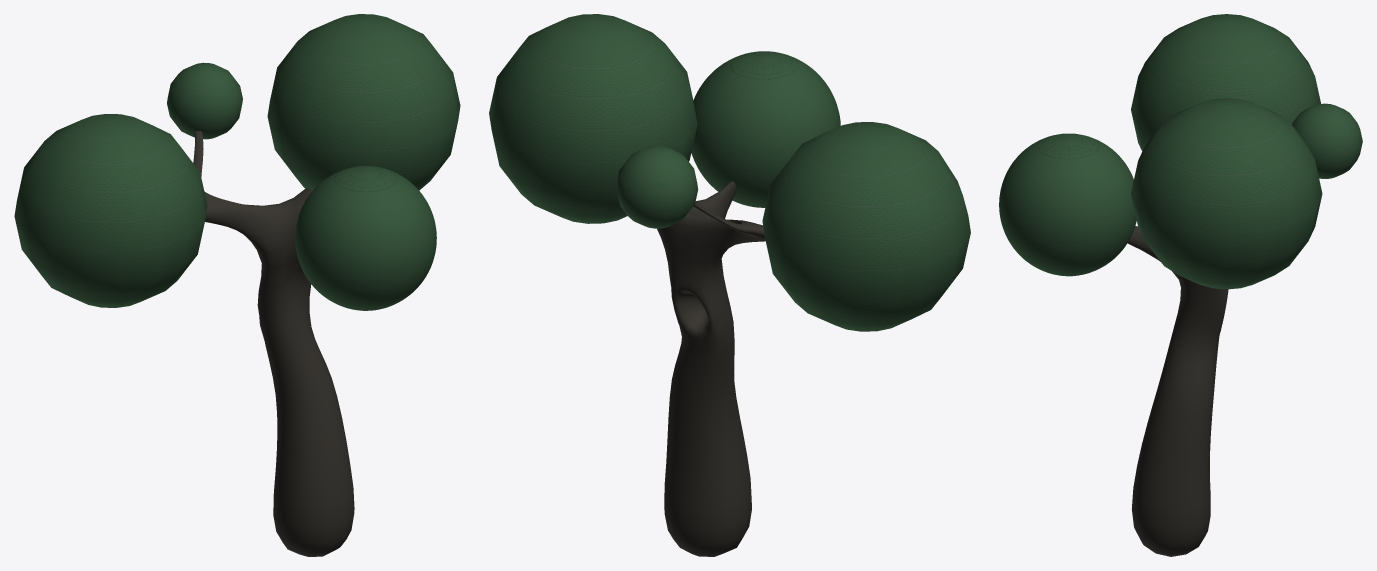
Rendered from Arbre.fbx.
3 renders of one model, left to right at view 1: azimuth 30°, elevation 25°; view 2: azimuth 150°, elevation 25°; view 3: azimuth 270°, elevation 25°, orthographic. The views are drawn at different scales.
Parts seen in each view (by area): view 1: Sphere_3, Sphere_2, Tree, Sphere, Sphere_1; view 2: Sphere_3, Sphere_2, Tree, Sphere, Sphere_1; view 3: Sphere_2, Tree, Sphere, Sphere_3, Sphere_1.
Part boxes in pixels (box(x1,y1,x2,y2)): Sphere_3: box(14, 114, 207, 307); Sphere_2: box(267, 14, 460, 190); Tree: box(193, 131, 354, 556); Sphere: box(295, 165, 436, 310); Sphere_1: box(167, 62, 242, 139); Sphere_3: box(762, 122, 970, 331); Sphere_2: box(489, 14, 697, 223); Tree: box(657, 181, 765, 556); Sphere: box(691, 51, 840, 207); Sphere_1: box(616, 146, 698, 228); Sphere_2: box(1131, 98, 1322, 289); Tree: box(1127, 226, 1228, 556); Sphere: box(999, 133, 1136, 276); Sphere_3: box(1131, 14, 1320, 151); Sphere_1: box(1292, 103, 1362, 178).
Bounding box in the file's own units: 244 × 272 × 185.
Materials: 2 (2 with a texture image).
